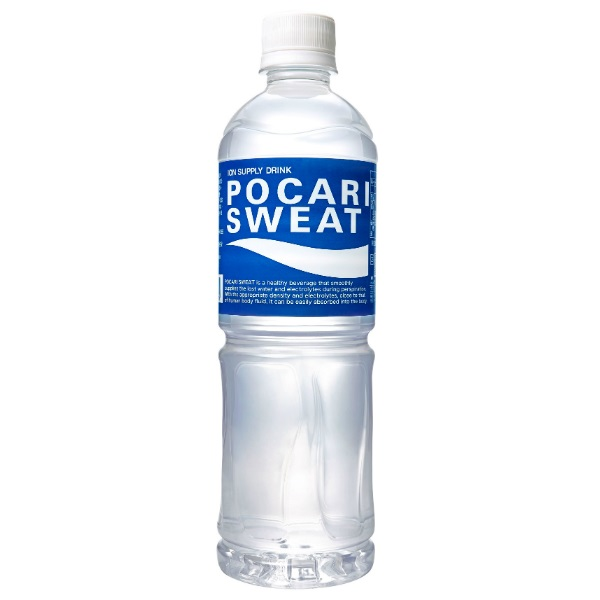POCARI SWEAT: (204, 8, 382, 587)
